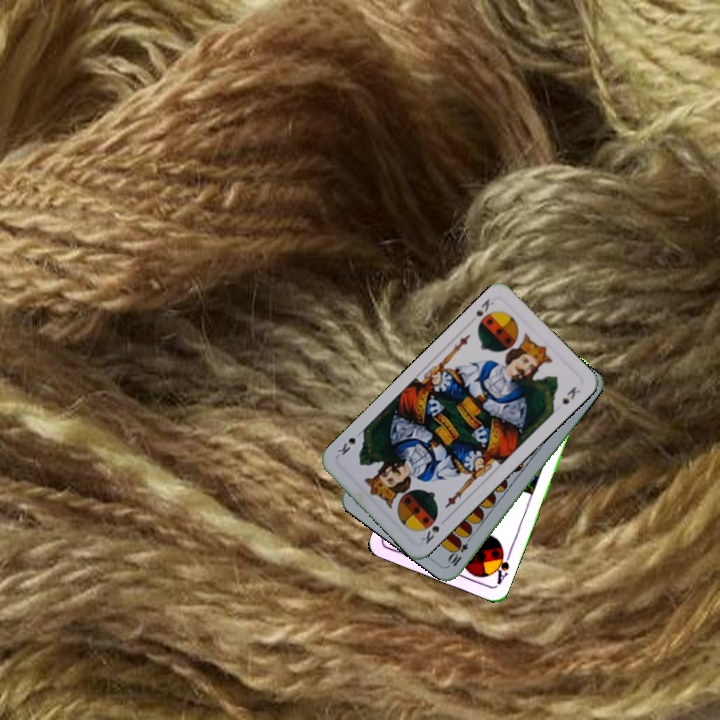E10: (445, 531, 474, 569)
SA: (489, 545, 514, 587)
SK: (417, 514, 450, 547), (471, 294, 496, 320)
